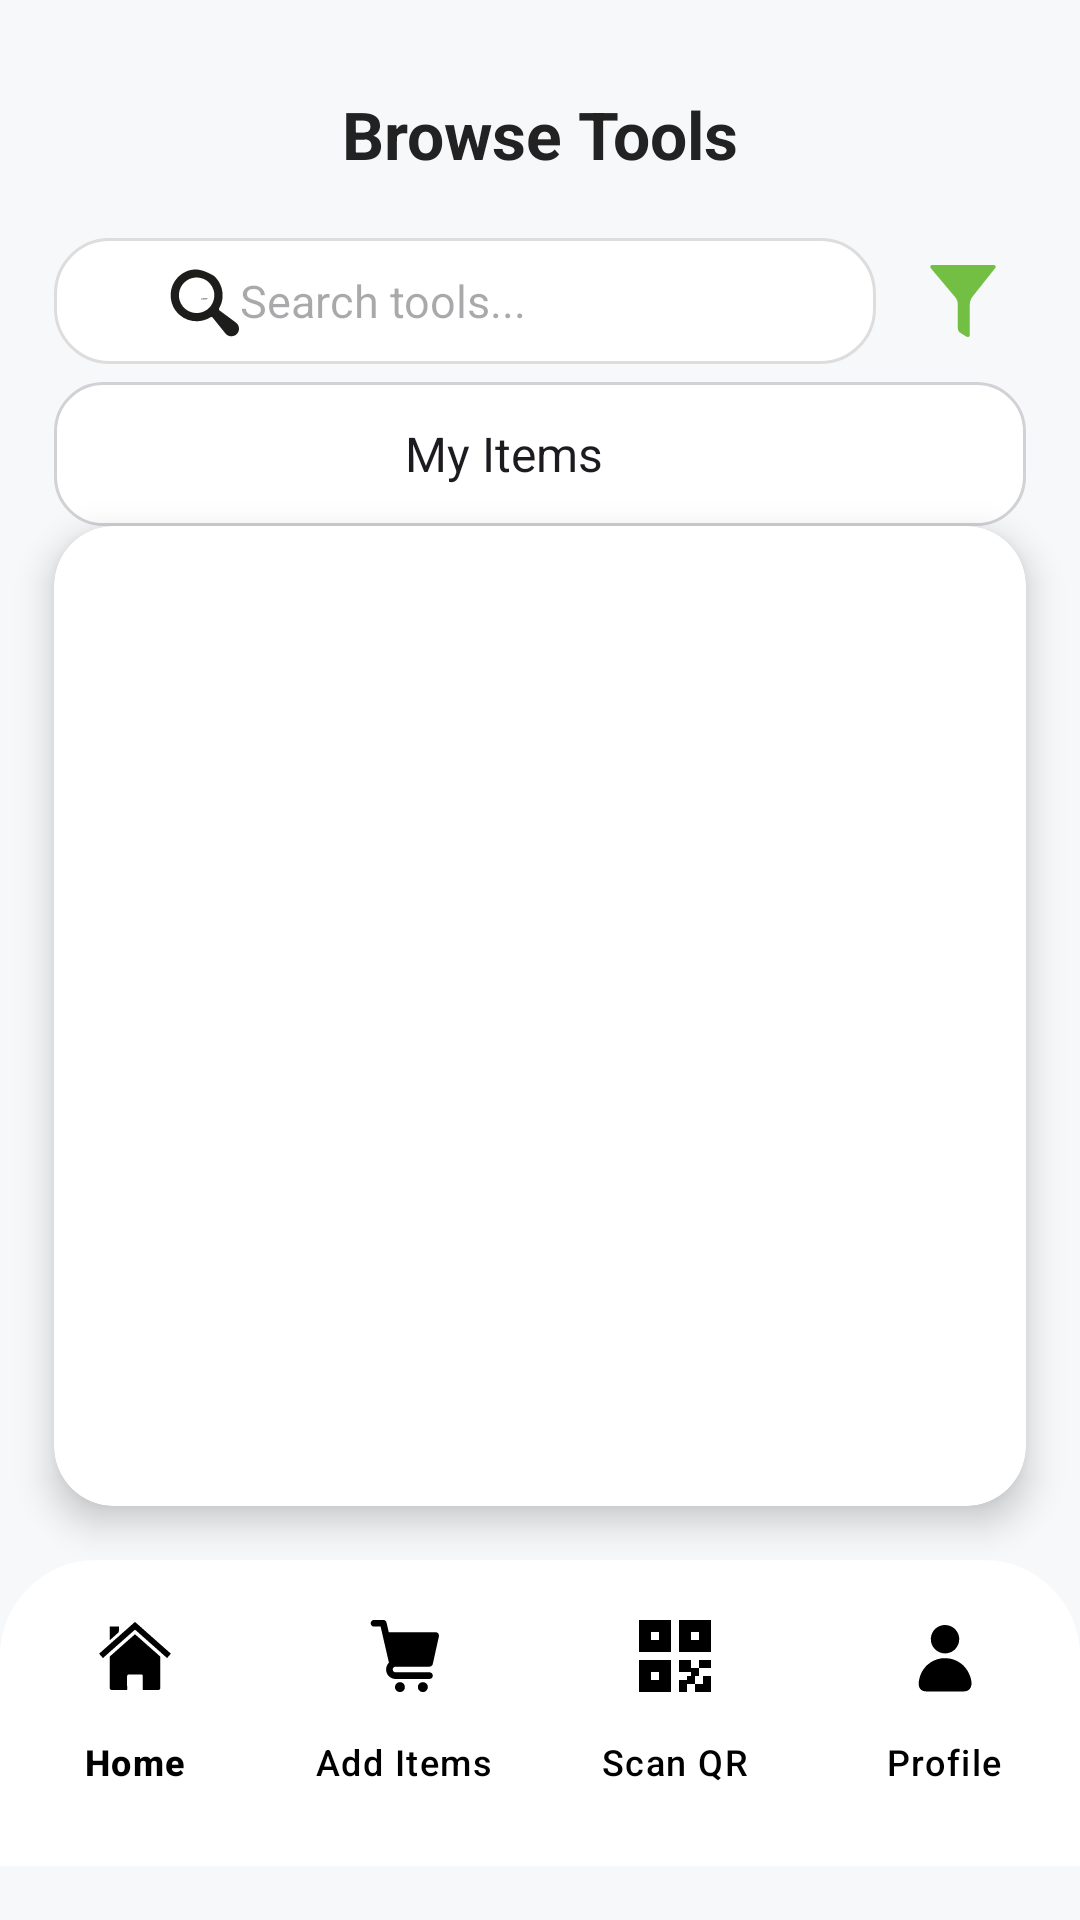

Named icons in this screenshot (1080px x 1920px) and their centers, [x,y]:
Filter: [963,301]
